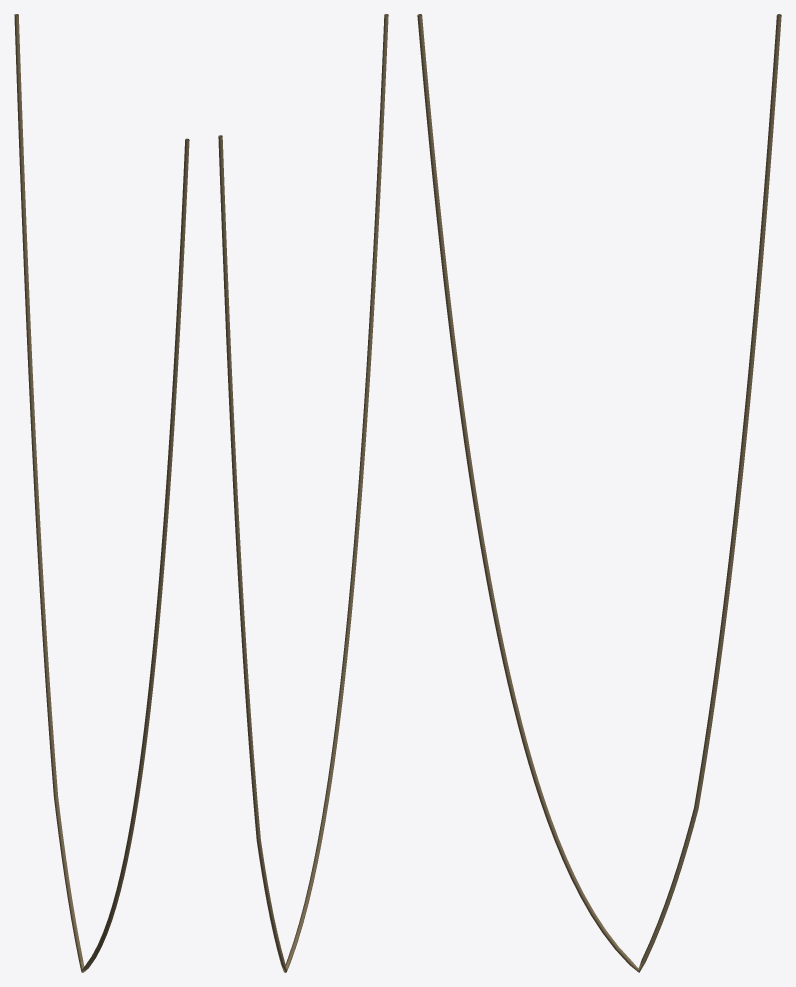
Rendered from SAG_chain_A.glb.
3 renders of one model, left to right at view 1: azimuth 30°, elevation 25°; view 2: azimuth 150°, elevation 25°; view 3: azimuth 270°, elevation 25°, orthographic. The views are drawn at different scales.
Visible parts, largest first — view 1: SAG_DYN_ChainSegment_A_PLETE.003; view 2: SAG_DYN_ChainSegment_A_PLETE.003; view 3: SAG_DYN_ChainSegment_A_PLETE.003.
Boxes of the visible parts, bbox=[...] form: SAG_DYN_ChainSegment_A_PLETE.003: bbox=[14, 14, 189, 972]; SAG_DYN_ChainSegment_A_PLETE.003: bbox=[218, 14, 388, 972]; SAG_DYN_ChainSegment_A_PLETE.003: bbox=[417, 14, 781, 972].
Bounding box in the file's own units: 0.02 × 4.41 × 1.52.
